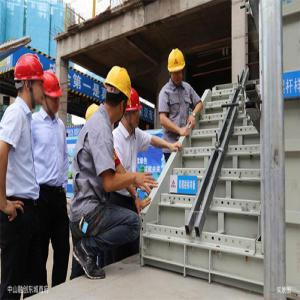red: (16, 53, 46, 107), (42, 71, 62, 114), (122, 89, 142, 130)
yellow: (104, 66, 132, 124), (167, 47, 188, 85)
